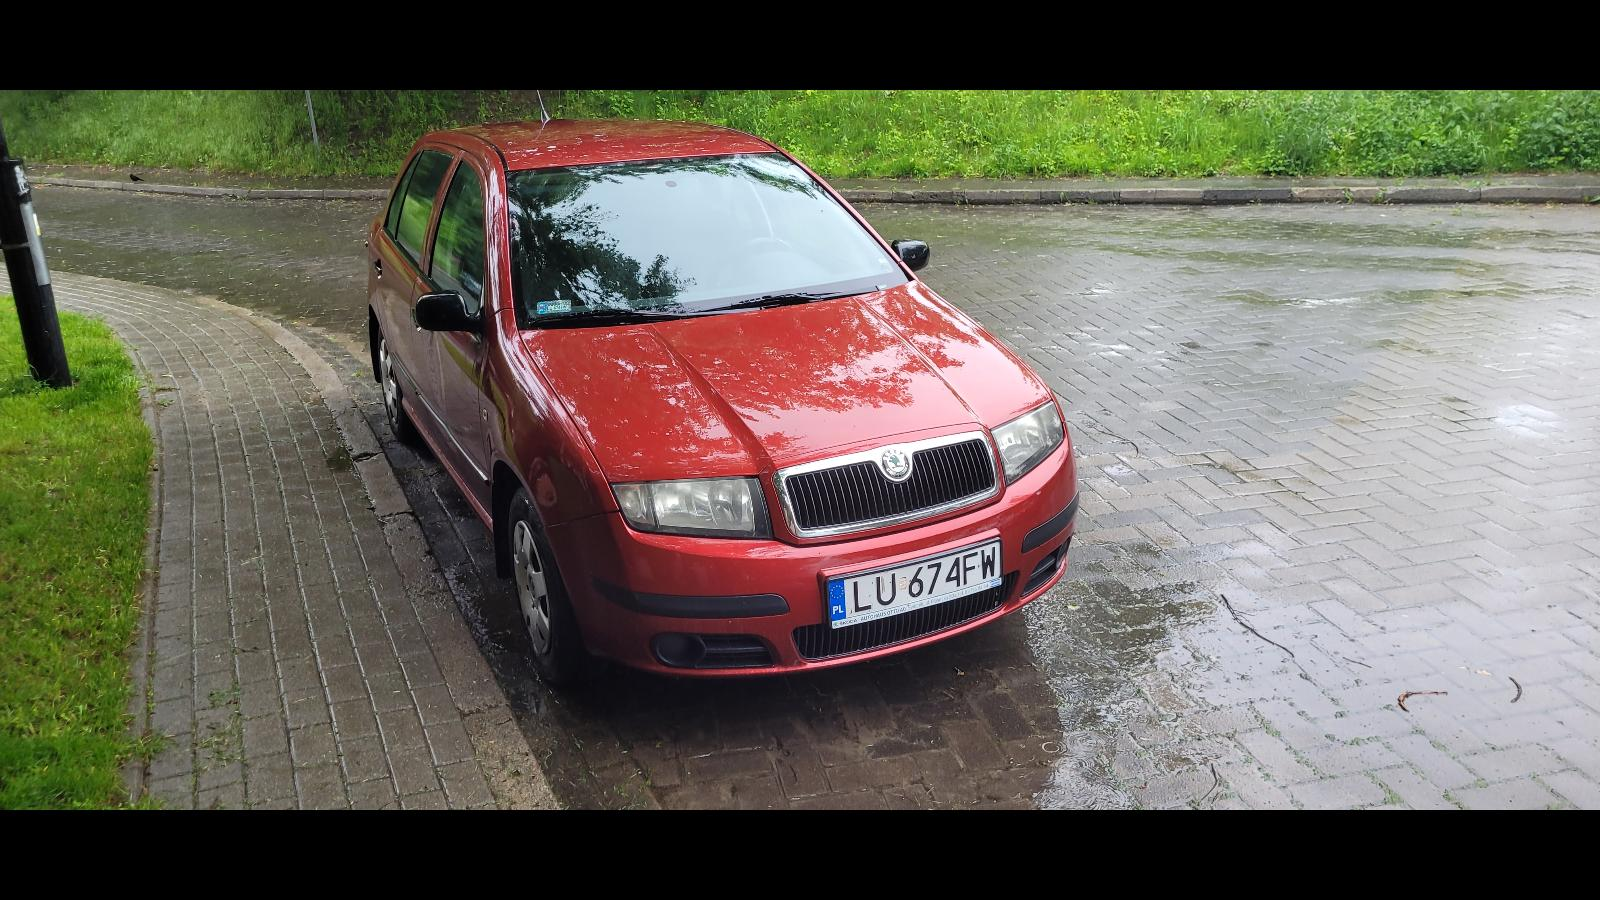plates: (826, 538, 1002, 630)
